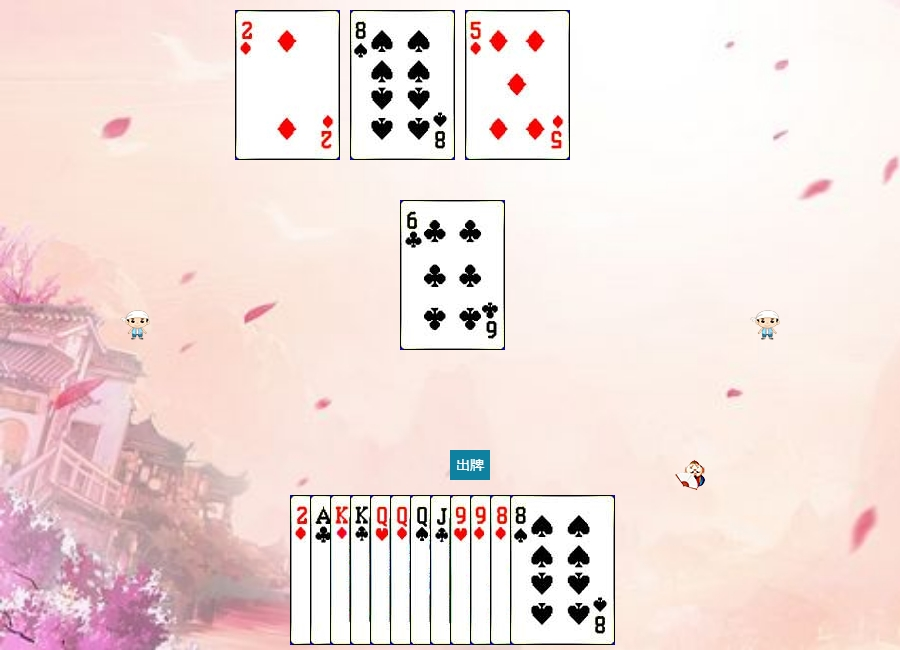11~2: (430, 495, 535, 645)
12~1: (390, 495, 495, 645)
12~3: (370, 495, 475, 645)
12~4: (410, 495, 515, 645)
13~1: (330, 495, 435, 645)
13~2: (350, 495, 455, 645)
14~2: (310, 495, 415, 645)
15~1: (235, 10, 340, 160), (290, 495, 395, 645)
5~1: (465, 10, 570, 160)
6~2: (400, 200, 505, 350)
8~1: (490, 495, 595, 645)
8~4: (350, 10, 455, 160), (510, 495, 615, 645)
9~1: (470, 495, 575, 645)
9~3: (450, 495, 555, 645)
